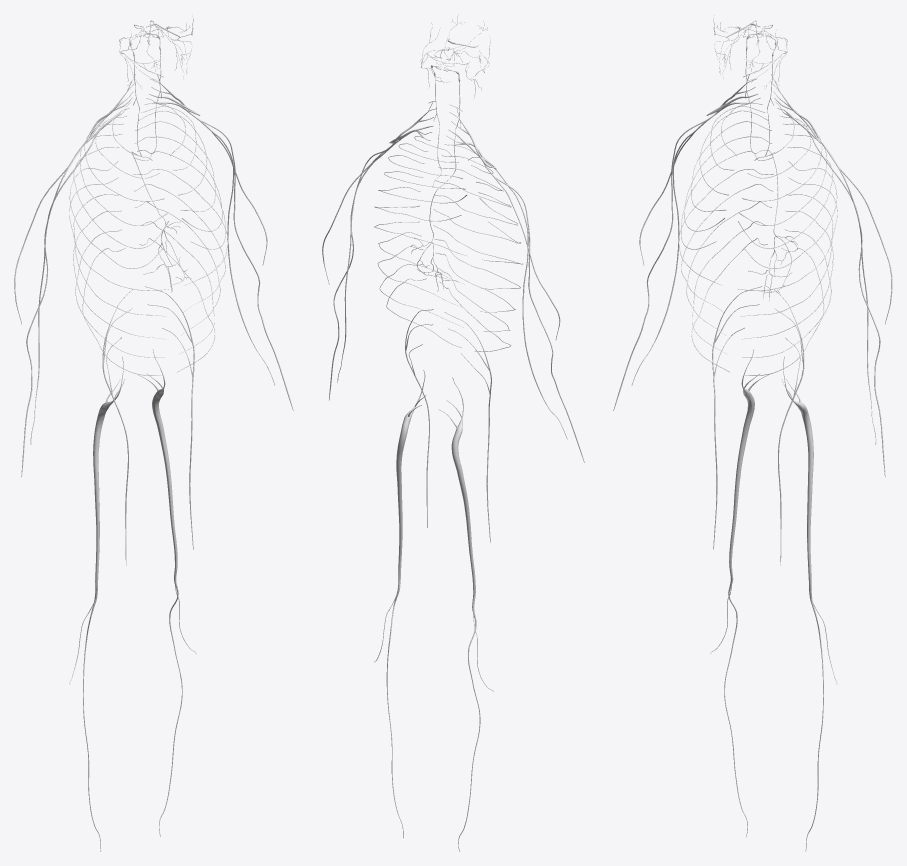
Rendered from nervos.glb.
3 views of the same model, side by side, from view 1: azimuth 30°, elevation 25°; view 2: azimuth 150°, elevation 25°; view 3: azimuth 330°, elevation 25° (orthographic). The views are drawn at different scales.
Visible parts, largest first — view 1: intercostais_d, intercostais_e, ciatico_d, ciatico_e, vago_d, femoral_d, femoral_e, mediano_d, mediano_e; view 2: intercostais_e, ciatico_d, ciatico_e, intercostais_d, vago_d, femoral_d, mediano_d; view 3: intercostais_e, intercostais_d, ciatico_e, ciatico_d, vago_d, femoral_d, femoral_e, mediano_e, mediano_d.
Boxes of the visible parts, <box> form: intercostais_d: <box>69,108,168,375</box>; intercostais_e: <box>133,102,228,372</box>; ciatico_d: <box>69,356,125,851</box>; ciatico_e: <box>138,349,196,836</box>; vago_d: <box>130,34,191,292</box>; femoral_d: <box>102,289,132,565</box>; femoral_e: <box>145,286,194,549</box>; mediano_d: <box>21,146,82,477</box>; mediano_e: <box>199,119,293,410</box>; intercostais_e: <box>374,136,467,347</box>; ciatico_d: <box>438,377,493,851</box>; ciatico_e: <box>374,370,426,837</box>; intercostais_d: <box>433,144,523,351</box>; vago_d: <box>411,67,460,291</box>; femoral_d: <box>445,312,491,542</box>; mediano_d: <box>494,176,584,462</box>; intercostais_e: <box>738,107,837,375</box>; intercostais_d: <box>678,103,773,372</box>; ciatico_e: <box>781,356,837,851</box>; ciatico_d: <box>710,349,768,836</box>; vago_d: <box>745,32,797,301</box>; femoral_d: <box>712,286,761,549</box>; femoral_e: <box>774,289,804,565</box>; mediano_e: <box>824,146,885,477</box>; mediano_d: <box>613,119,707,410</box>.
Size of the model in its own units: 0.528 by 1.58 by 0.1955.
Materials: 8 (2 with a texture image).
